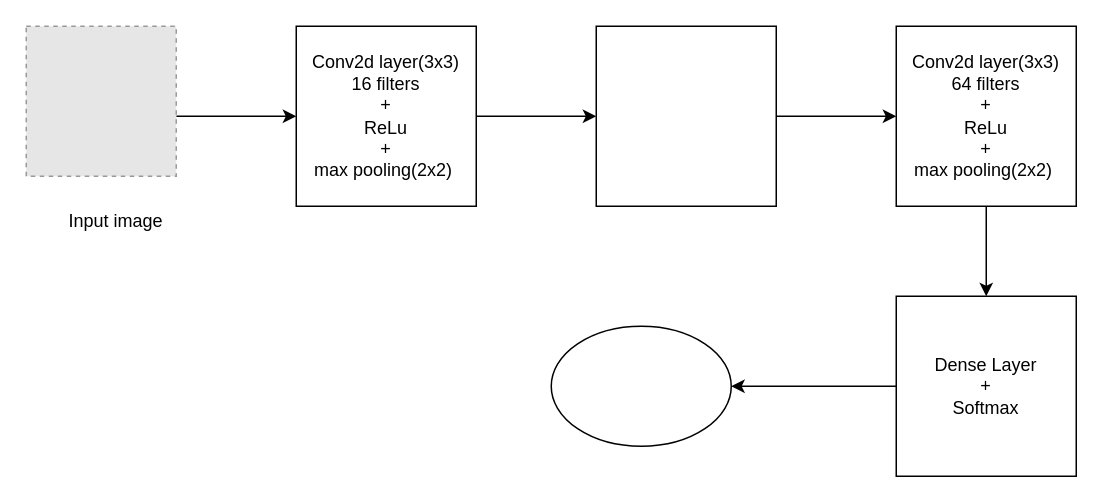
Image size: 1103x503. Some labels were removed from this diagram. Grey dashed boxes stand in for pictures. The box of each missing label's shape, as (x1, y1, x2, y2) in pixels:
Conv2d layer(3x3) 32 filters + ReLu + max pooling(2x2): (595, 25, 776, 206)
Output: A: (550, 325, 731, 446)
